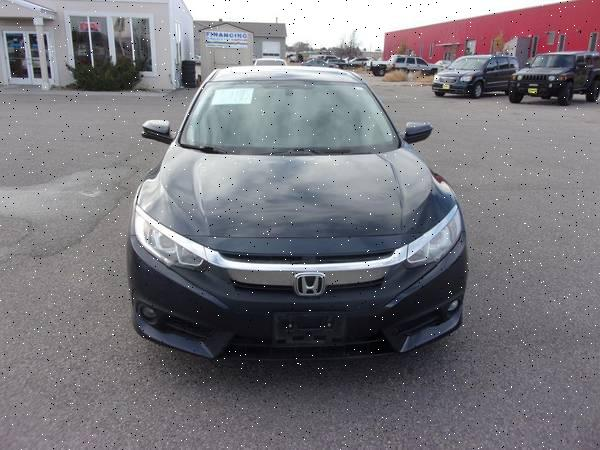Front_Bumper: (128, 231, 466, 357)
Front_Windshield: (179, 78, 402, 154)
Grille: (216, 318, 403, 361)
Hood: (138, 140, 457, 255)
Left_Headlight: (405, 201, 460, 262)
Left_Mirror: (405, 119, 433, 143)
Right_Headlight: (132, 204, 205, 267)
Right_Mirror: (140, 119, 172, 144)
Roof: (207, 63, 365, 81)
